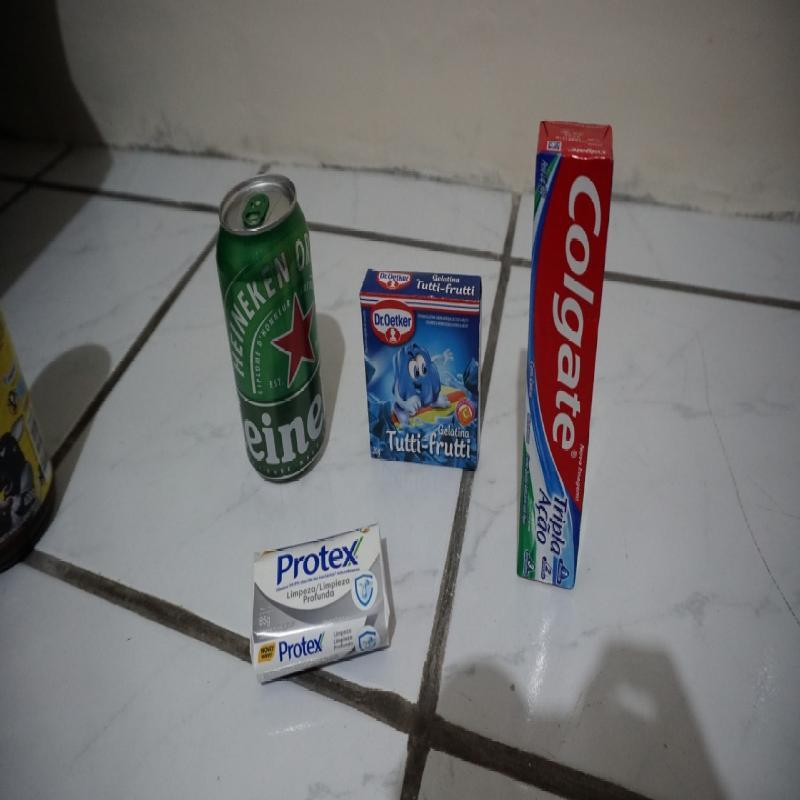Beer can: (213, 173, 326, 480)
Chocolate Powder: (2, 290, 57, 568)
Gelatine: (359, 264, 483, 470)
Soap: (251, 524, 388, 688)
Toothpaste: (517, 118, 612, 588)
